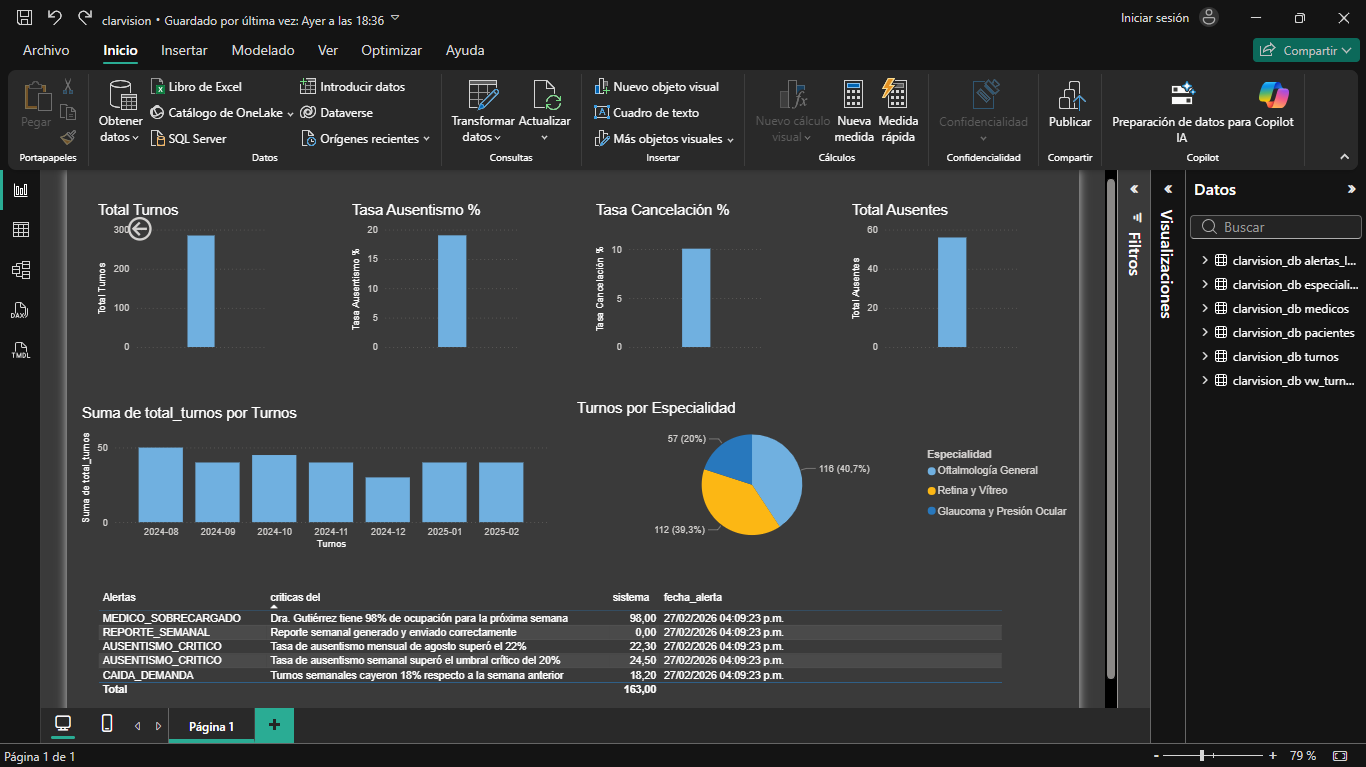

Layout of this report page (visuals, bound fields, positions):
{"tool":"powerbi","page":{"name":"Página 1","canvas":[1280,720],"ordinal":0},"visuals":[{"type":"clusteredColumnChart","fields":{"Y":["CountNonNull(clarvision_db turnos.id_turno)"]},"box":[34.1,40.2,222.9,196.6],"z":0},{"type":"clusteredColumnChart","fields":{"Y":["Avg(clarvision_db vw_turnos_mensual.tasa_ausentismo)"]},"box":[356,40.2,222.9,196.6],"z":1000},{"type":"clusteredColumnChart","fields":{"Y":["Avg(clarvision_db vw_turnos_mensual.tasa_cancelacion)"]},"box":[664,40.2,222.9,196.6],"z":2000},{"type":"clusteredColumnChart","fields":{"Y":["Sum(clarvision_db vw_turnos_mensual.ausentes)"]},"box":[989,40.2,222.9,196.6],"z":3000},{"type":"clusteredColumnChart","fields":{"Y":["Sum(clarvision_db vw_turnos_mensual.total_turnos)"],"Category":["clarvision_db vw_turnos_mensual.periodo"]},"box":[13.9,297.2,599,187.3],"z":4000},{"type":"pieChart","fields":{"Category":["clarvision_db especialidades.nombre"],"Y":["CountNonNull(clarvision_db turnos.id_turno)"]},"box":[640.8,291,639.2,193.5],"z":6000},{"type":"tableEx","fields":{"Values":["clarvision_db alertas_log.tipo_alerta","clarvision_db alertas_log.descripcion","Sum(clarvision_db alertas_log.valor_detectado)","clarvision_db alertas_log.fecha_alerta"]},"box":[34.1,527.8,1177.8,176.4],"z":7000},{"type":"actionButton","box":[72.7,54.2,100,40],"z":8000}]}

Visuals, with their boxes on the page's 1280x720 design canvas (x1, y1, x2, y2). These are canvas units, not pixel positions in the 1366x767 screenshot, which may show the page scaled, cropped or inside an application window:
clusteredColumnChart - CountNonNull(clarvision_db turnos.id_turno): x1=34, y1=40, x2=257, y2=237
clusteredColumnChart - Avg(clarvision_db vw_turnos_mensual.tasa_ausentismo): x1=356, y1=40, x2=579, y2=237
clusteredColumnChart - Avg(clarvision_db vw_turnos_mensual.tasa_cancelacion): x1=664, y1=40, x2=887, y2=237
clusteredColumnChart - Sum(clarvision_db vw_turnos_mensual.ausentes): x1=989, y1=40, x2=1212, y2=237
clusteredColumnChart - Sum(clarvision_db vw_turnos_mensual.total_turnos) x clarvision_db vw_turnos_mensual.periodo: x1=14, y1=297, x2=613, y2=484
pieChart - clarvision_db especialidades.nombre x CountNonNull(clarvision_db turnos.id_turno): x1=641, y1=291, x2=1280, y2=484
tableEx - clarvision_db alertas_log.tipo_alerta x clarvision_db alertas_log.descripcion: x1=34, y1=528, x2=1212, y2=704
actionButton: x1=73, y1=54, x2=173, y2=94
